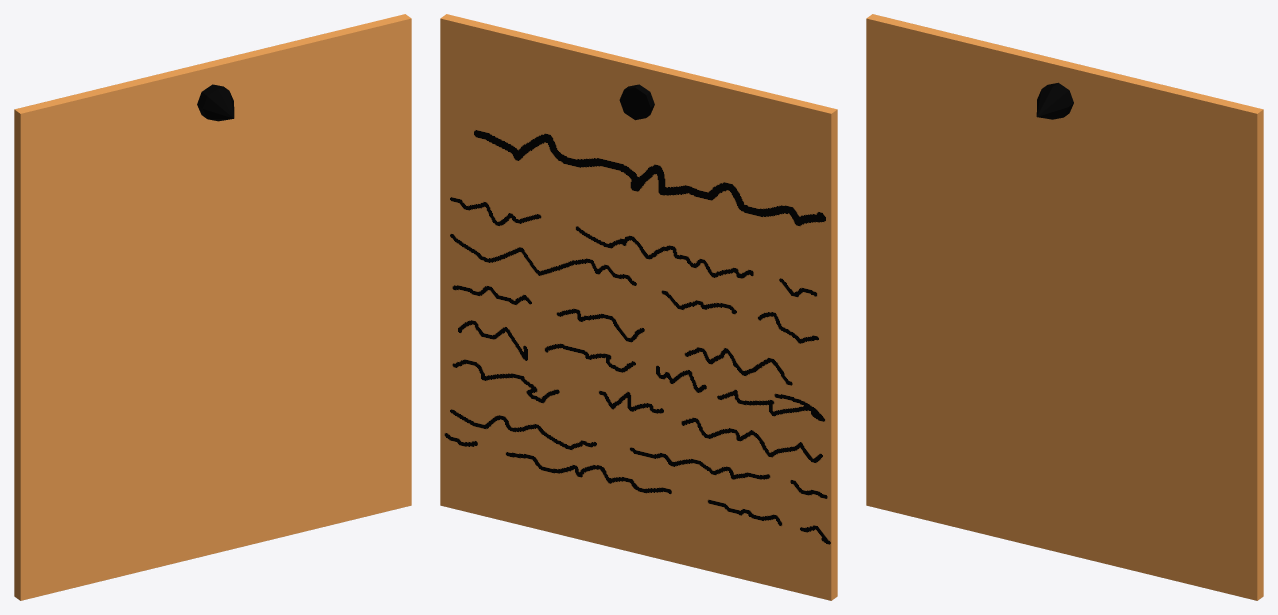
File: PaperPost.glb
The picture shows the model from 3 angles, left to right: view 1: azimuth 30°, elevation 25°; view 2: azimuth 150°, elevation 25°; view 3: azimuth 330°, elevation 25°; orthographic projection.
Parts seen in each view (by area): view 1: Cube; view 2: Cube; view 3: Cube.
Part boxes in pixels (x1,y1,x2,y2): Cube: (14, 14, 411, 600); Cube: (440, 14, 837, 600); Cube: (866, 14, 1263, 600).
Bounding box in the file's own units: 1.25 × 1.49 × 0.178.
Materials: 1 (1 with a texture image).
